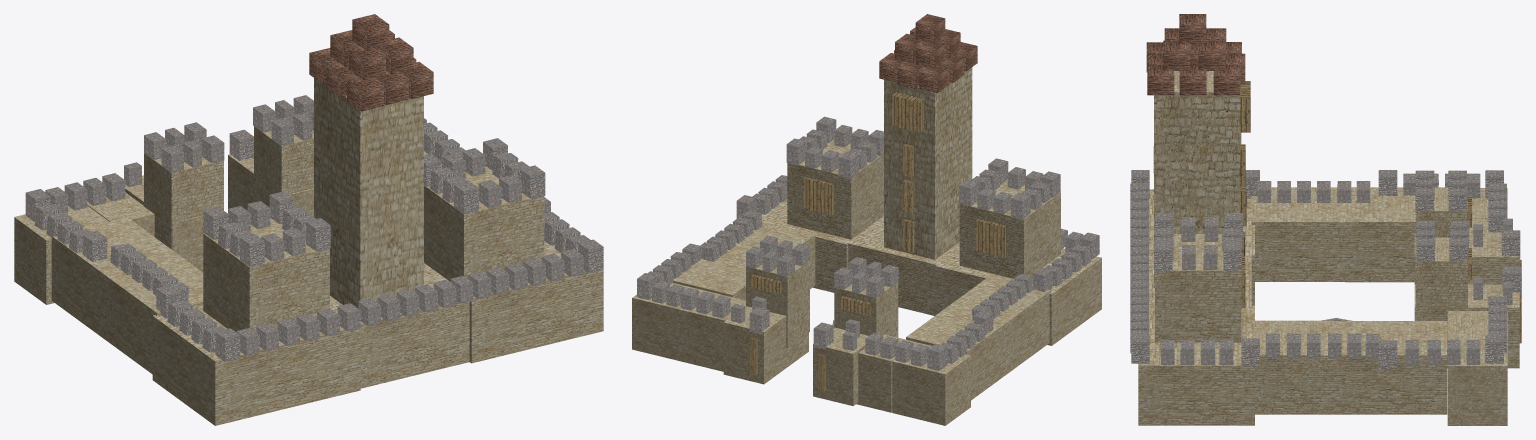
The model's file is castle.gltf.
3 renders of one model, left to right at view 1: azimuth 30°, elevation 25°; view 2: azimuth 150°, elevation 25°; view 3: azimuth 270°, elevation 25°, orthographic. The views are drawn at different scales.
Parts seen in each view (by area): view 1: tower (×6), backwall (×3), Box (×27), leftwall (×2), frontwall (×2); view 2: tower (×6), frontwall (×4), backwall (×3), Box (×16), leftwall (×2), rightwall (×2), wood (×4); view 3: tower (×5), Box (×30), rightwall (×2), leftwall (×2), backwall (×3), frontwall (×3), wood.
Part boxes in pixels (x1,y1,x2,y2): tower (×6): (125, 78, 544, 332); backwall (×3): (152, 241, 603, 425); Box (×27): (82, 14, 603, 362); leftwall (×2): (51, 217, 203, 374); frontwall (×2): (14, 192, 154, 304); tower (×6): (723, 67, 1060, 405); frontwall (×4): (632, 282, 970, 425); backwall (×3): (761, 199, 1101, 345); Box (×16): (746, 14, 1052, 370); leftwall (×2): (906, 275, 1051, 400); rightwall (×2): (673, 221, 815, 300); wood (×4): (750, 92, 1006, 294); tower (×5): (1154, 71, 1519, 368); Box (×30): (1131, 14, 1520, 368); rightwall (×2): (1255, 320, 1447, 414); leftwall (×2): (1251, 187, 1415, 282); backwall (×3): (1138, 189, 1254, 425); frontwall (×3): (1447, 188, 1507, 425); wood: (1240, 81, 1250, 132).
Bounding box in the file's own units: 34.6 × 28.65 × 31.96.
Materials: 7 (6 with a texture image).
